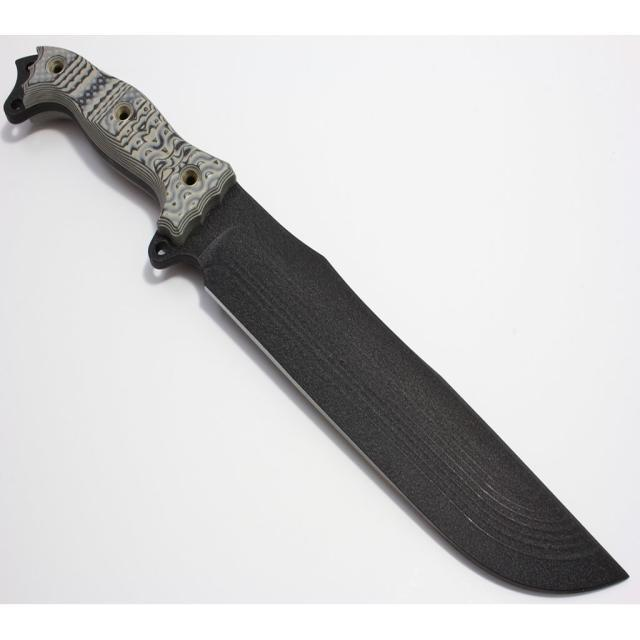Knife: (4, 46, 626, 592)
